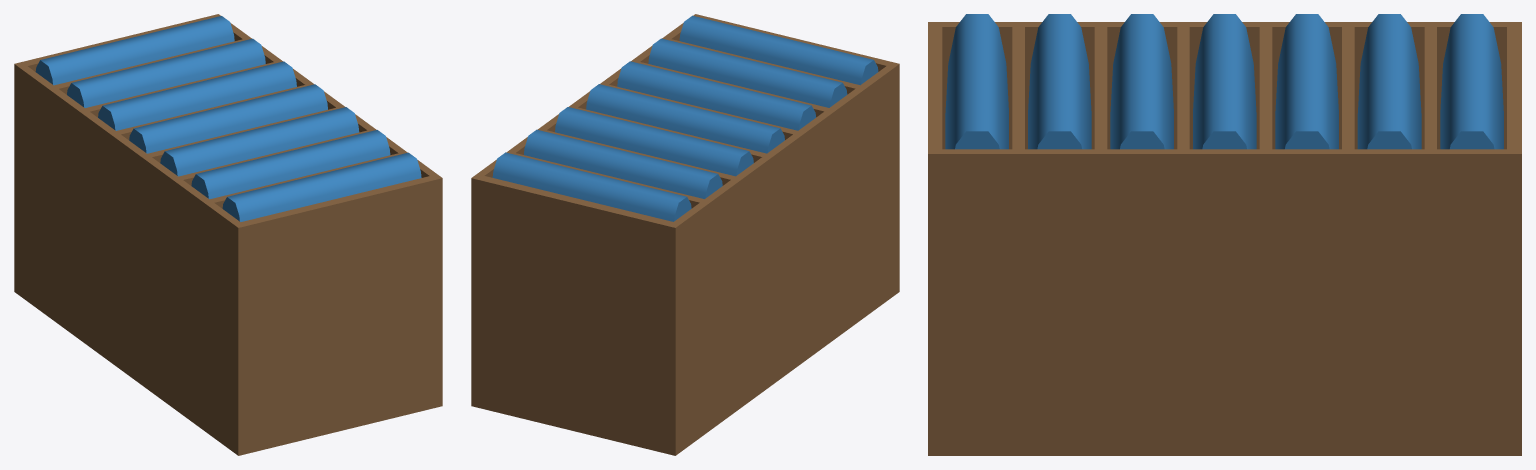
The model's file is pants.fbx.
3 renders of one model, left to right at view 1: azimuth 30°, elevation 25°; view 2: azimuth 150°, elevation 25°; view 3: azimuth 270°, elevation 25°, orthographic. The views are drawn at different scales.
Visible parts, largest first — view 1: pants; view 2: pants; view 3: pants.
Part boxes in pixels (bbox=[...]): pants: bbox=[14, 14, 442, 455]; pants: bbox=[471, 14, 899, 455]; pants: bbox=[928, 14, 1521, 455].
Bounding box in the file's own units: 188 × 210 × 357.
